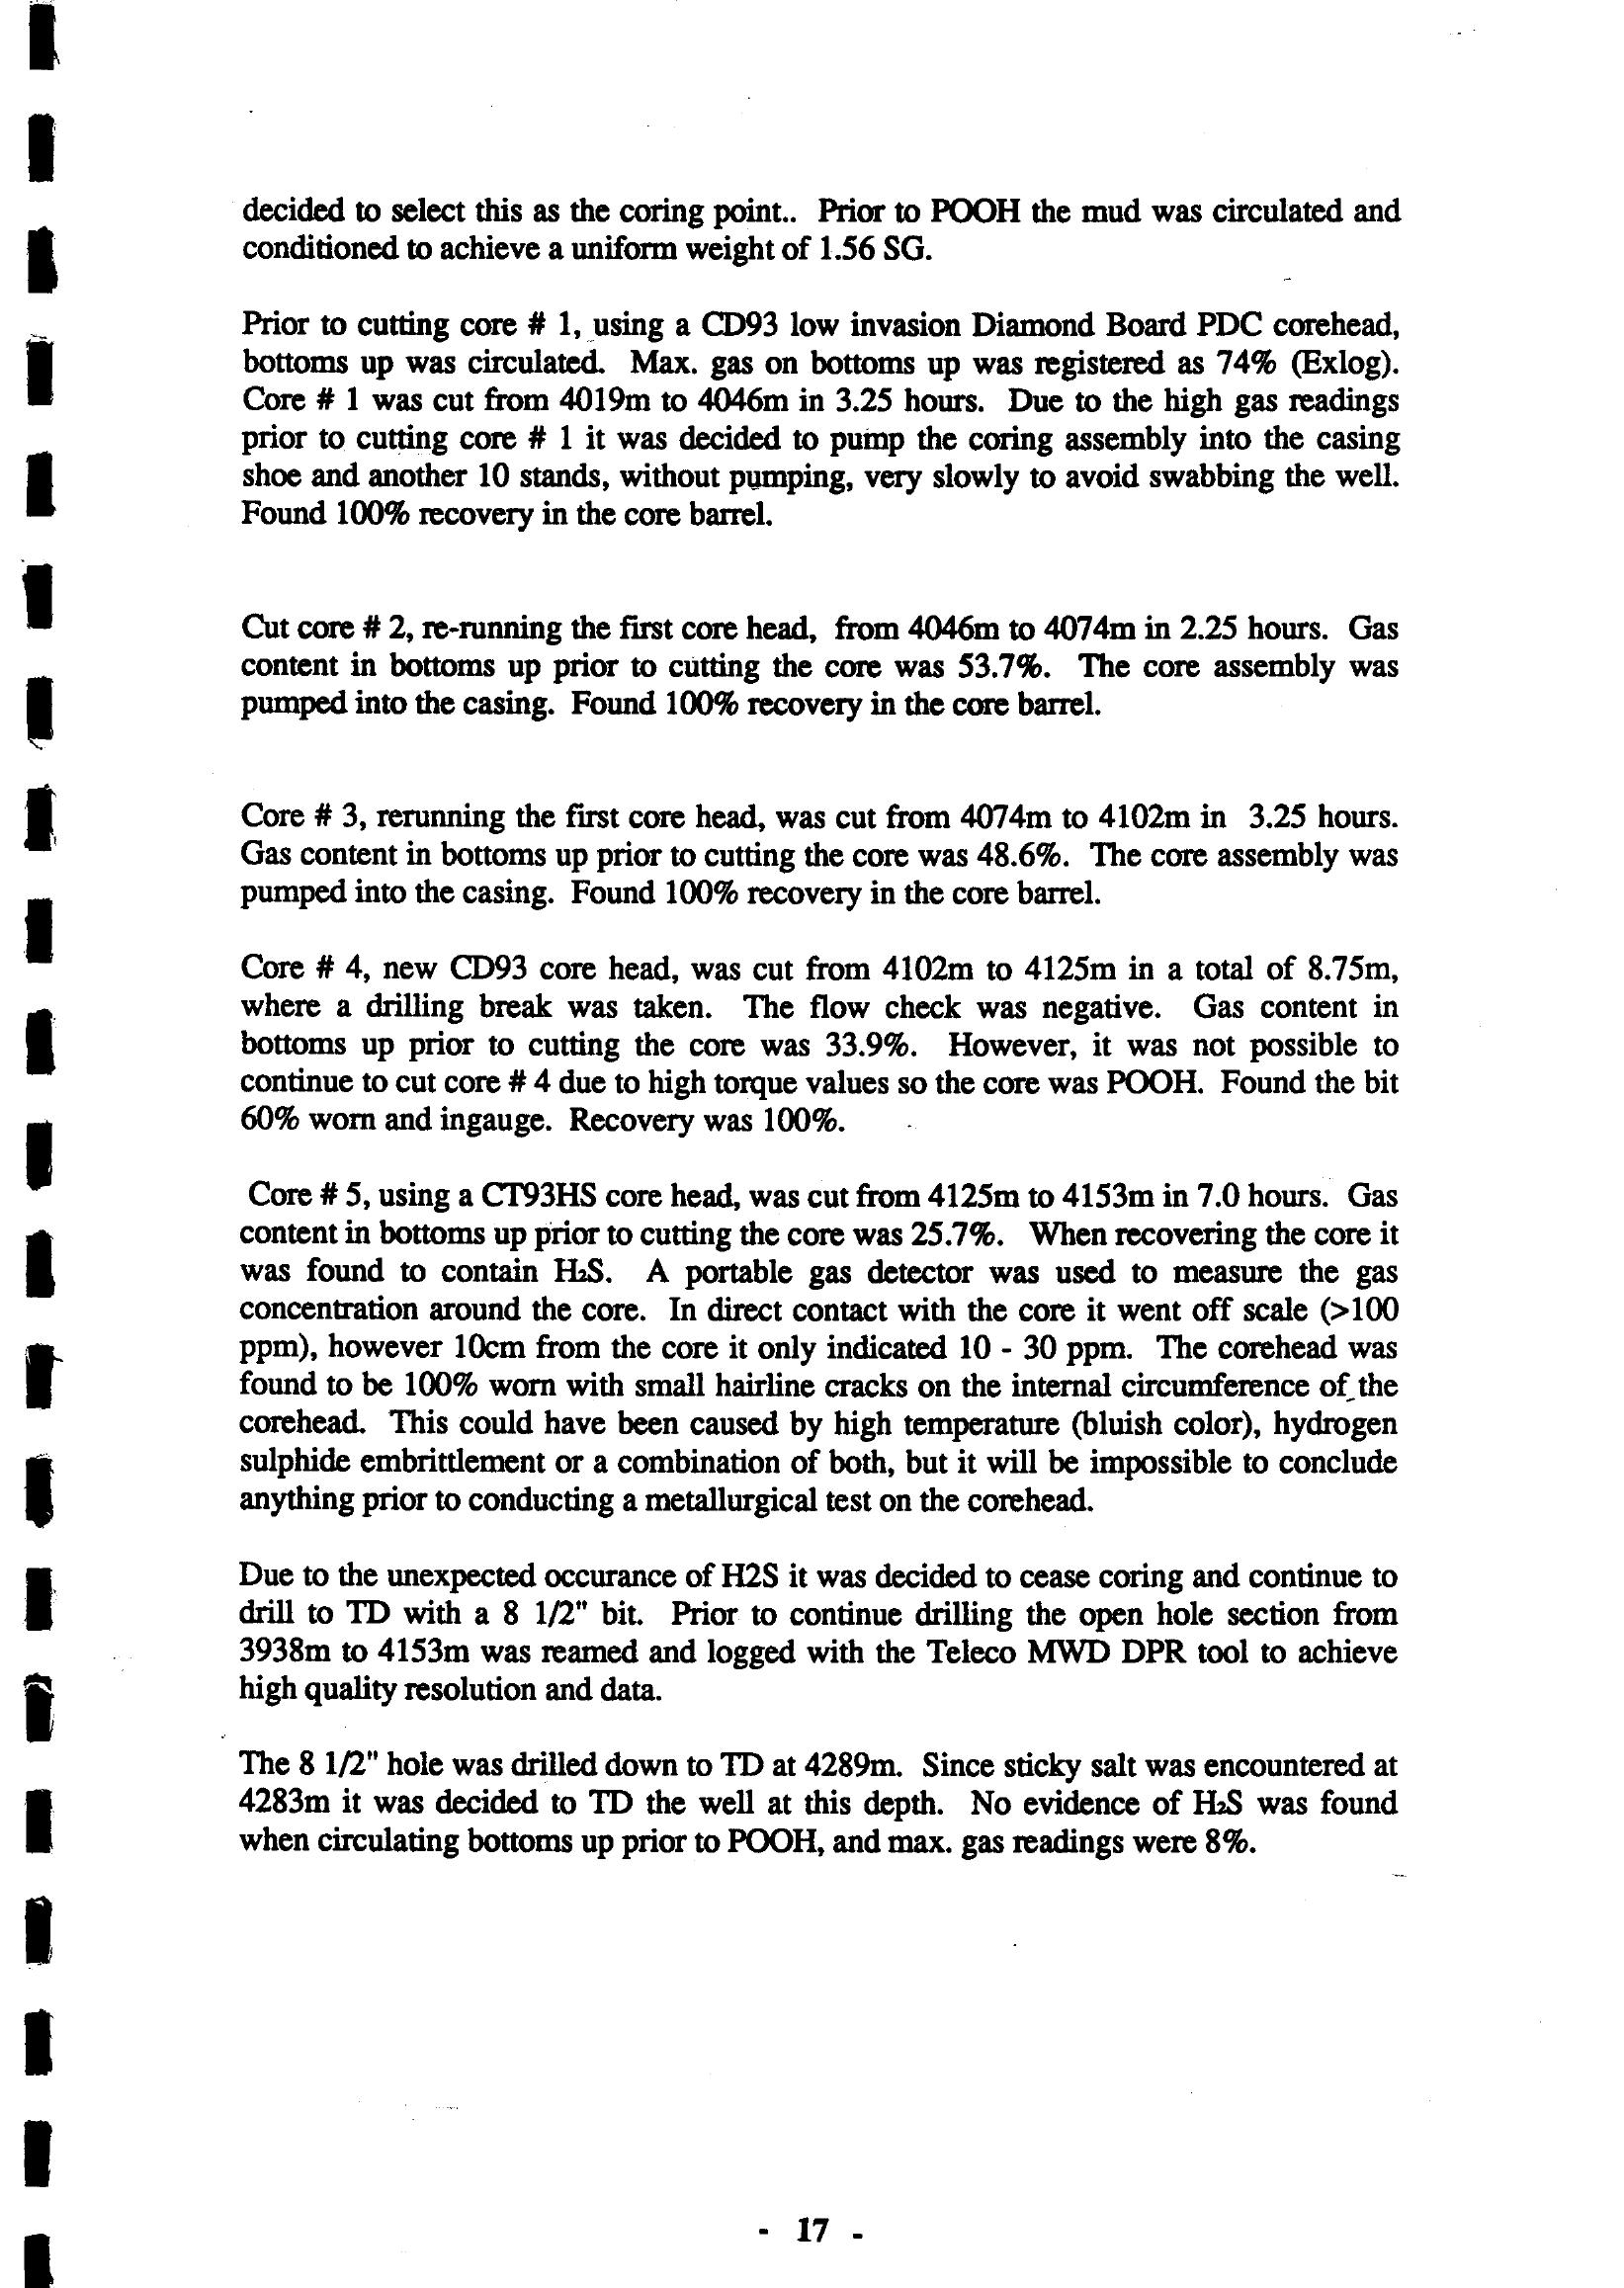text: (209, 170, 1462, 1905)
